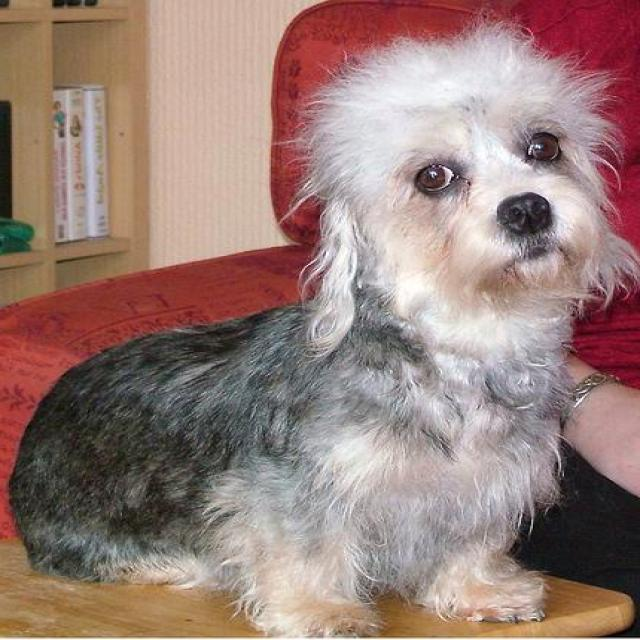dandie_dinmont: (12, 15, 640, 635)
